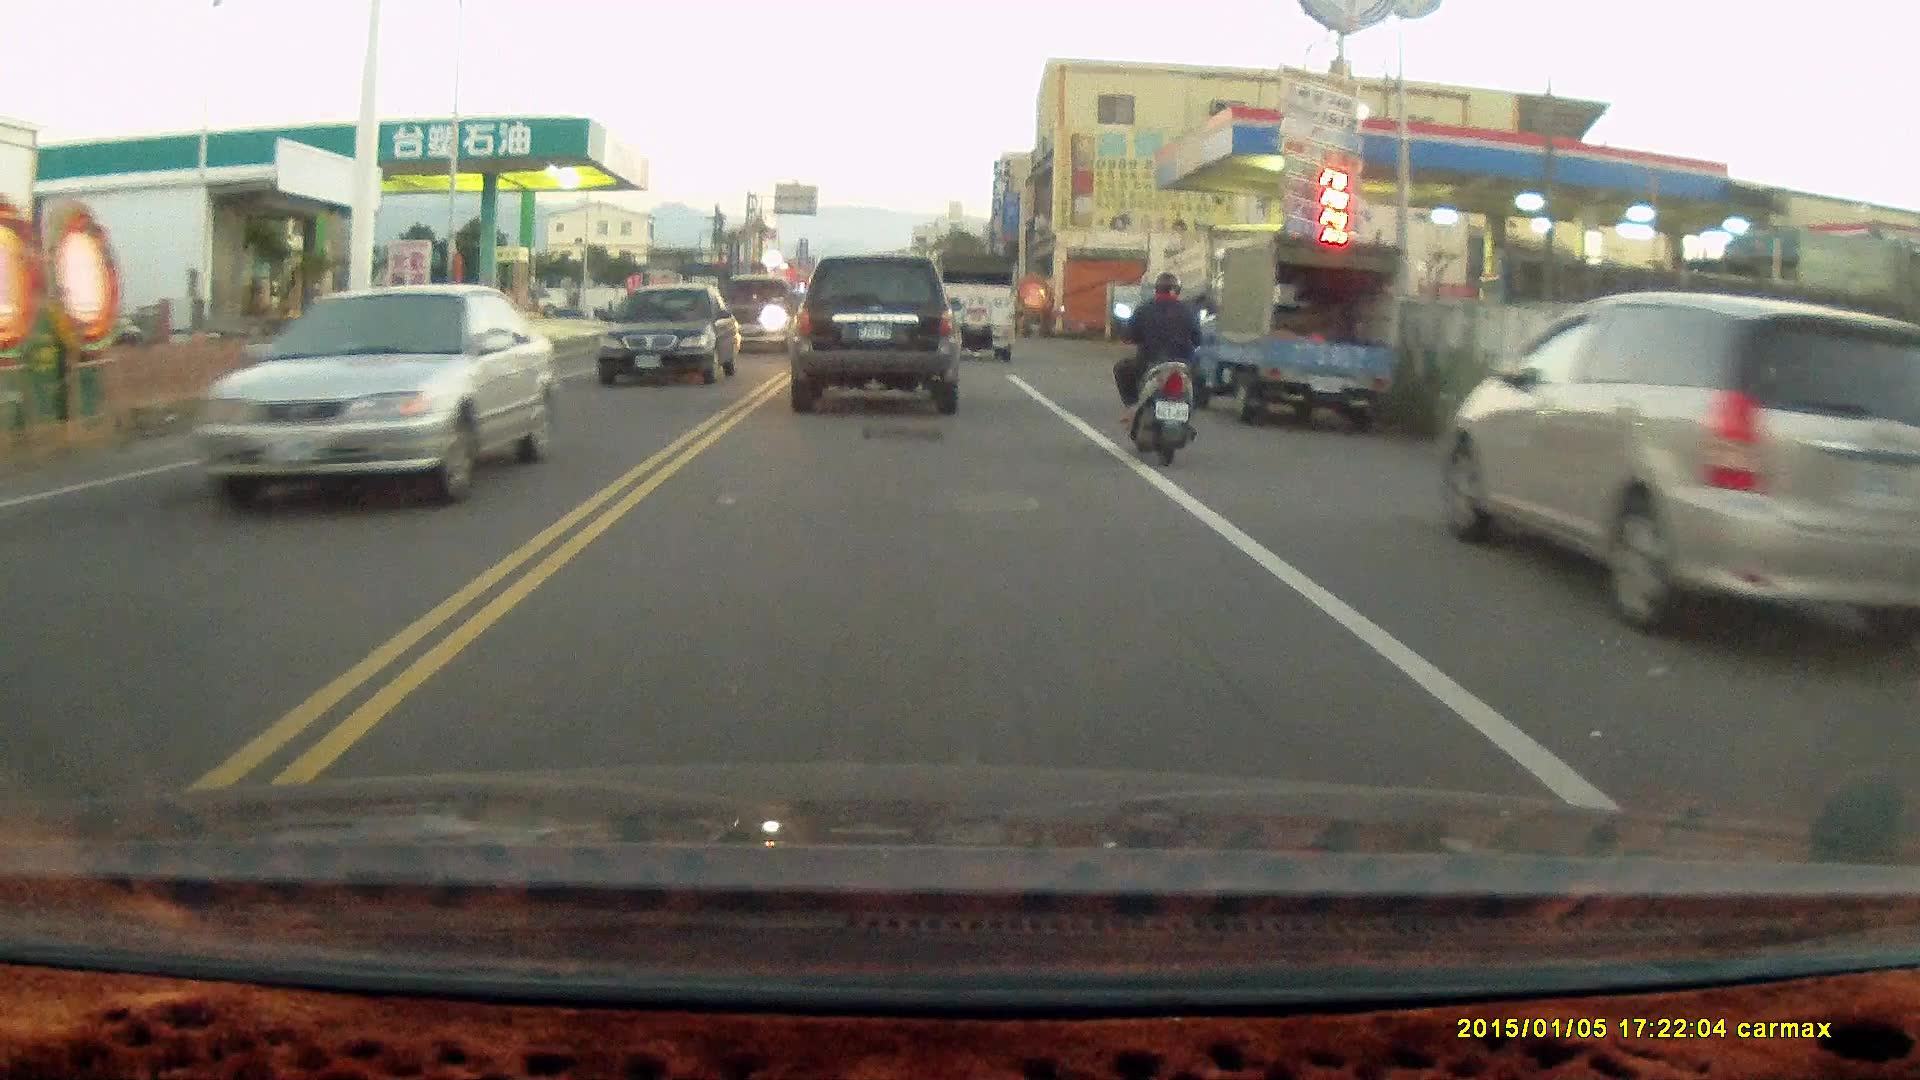rider: (1111, 271, 1213, 469)
vehicle: (1458, 293, 1881, 656), (201, 289, 551, 511), (1189, 239, 1405, 433), (786, 256, 961, 418), (595, 287, 742, 390), (935, 250, 1016, 363)
